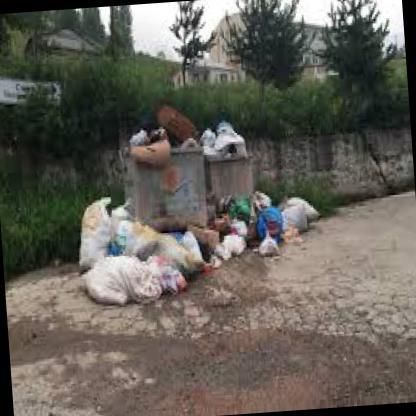Garbage: (130, 112, 257, 164), (82, 255, 176, 318), (67, 192, 114, 266), (155, 224, 202, 282), (202, 116, 251, 158), (110, 200, 140, 255), (285, 194, 317, 233), (212, 119, 244, 156), (256, 199, 280, 236), (218, 226, 245, 254), (263, 236, 282, 264), (130, 130, 151, 145)
